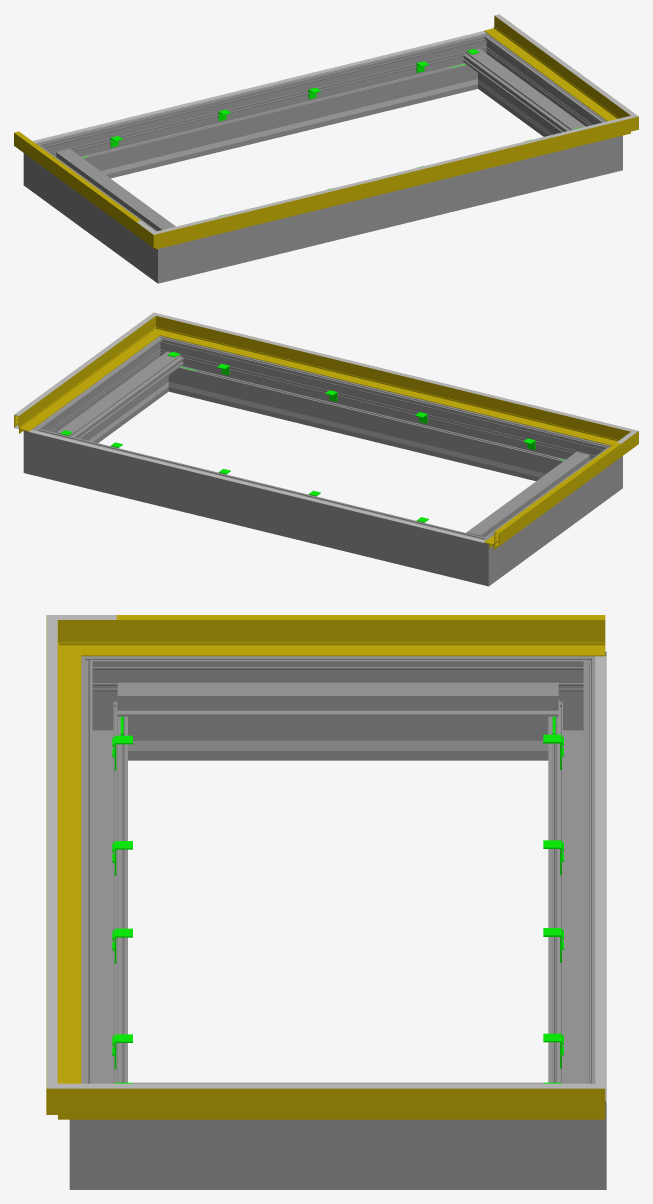
The picture shows the model from 3 angles, top to bottom: view 1: azimuth 30°, elevation 25°; view 2: azimuth 150°, elevation 25°; view 3: azimuth 270°, elevation 25°; orthographic projection. The views are drawn at different scales.
Parts seen in each view (by area): view 1: 3DGeom-30, 3DGeom-20, 3DGeom-88, 3DGeom-28, 3DGeom-90, 3DGeom-13, 3DGeom-314, 3DGeom-82, 3DGeom-6, 3DGeom-284, 3DGeom-338, 3DGeom-98 (+10 smaller); view 2: 3DGeom-20, 3DGeom-30, 3DGeom-88, 3DGeom-28, 3DGeom-13, 3DGeom-90, 3DGeom-32, 3DGeom-309, 3DGeom-82, 3DGeom-284, 3DGeom-338, 3DGeom-22 (+10 smaller); view 3: 3DGeom-13, 3DGeom-28, 3DGeom-82, 3DGeom-30, 3DGeom-20, 3DGeom-90, 3DGeom-88, 3DGeom-284, 3DGeom-286, 3DGeom-22, 3DGeom-338, 3DGeom-14 (+9 smaller).
Part boxes in pixels (<box>): 3DGeom-30: <box>57,39,472,178</box>; 3DGeom-20: <box>188,143,592,276</box>; 3DGeom-88: <box>181,124,608,243</box>; 3DGeom-28: <box>41,153,150,270</box>; 3DGeom-90: <box>484,16,616,120</box>; 3DGeom-13: <box>481,44,599,136</box>; 3DGeom-314: <box>100,86,448,174</box>; 3DGeom-82: <box>14,133,136,234</box>; 3DGeom-6: <box>140,226,188,283</box>; 3DGeom-284: <box>56,150,172,230</box>; 3DGeom-338: <box>32,31,485,142</box>; 3DGeom-98: <box>181,122,607,227</box>; 3DGeom-20: <box>173,342,589,480</box>; 3DGeom-30: <box>54,434,463,578</box>; 3DGeom-88: <box>175,322,605,442</box>; 3DGeom-28: <box>496,456,605,573</box>; 3DGeom-13: <box>46,346,165,442</box>; 3DGeom-90: <box>14,327,150,433</box>; 3DGeom-32: <box>458,529,506,586</box>; 3DGeom-309: <box>198,389,545,477</box>; 3DGeom-82: <box>484,444,621,549</box>; 3DGeom-284: <box>469,452,590,537</box>; 3DGeom-338: <box>28,430,485,542</box>; 3DGeom-22: <box>23,419,59,480</box>; 3DGeom-13: <box>139,1119,536,1189</box>; 3DGeom-28: <box>139,656,536,760</box>; 3DGeom-82: <box>116,620,605,656</box>; 3DGeom-30: <box>548,681,606,1083</box>; 3DGeom-20: <box>81,681,127,1083</box>; 3DGeom-90: <box>116,1088,605,1119</box>; 3DGeom-88: <box>46,645,81,1083</box>; 3DGeom-284: <box>117,682,558,710</box>; 3DGeom-286: <box>117,692,558,716</box>; 3DGeom-22: <box>536,1075,606,1189</box>; 3DGeom-338: <box>595,656,606,1100</box>; 3DGeom-14: <box>69,1075,139,1189</box>.
Bounding box in the file's own units: 2.44 × 0.2669 × 1.22.
